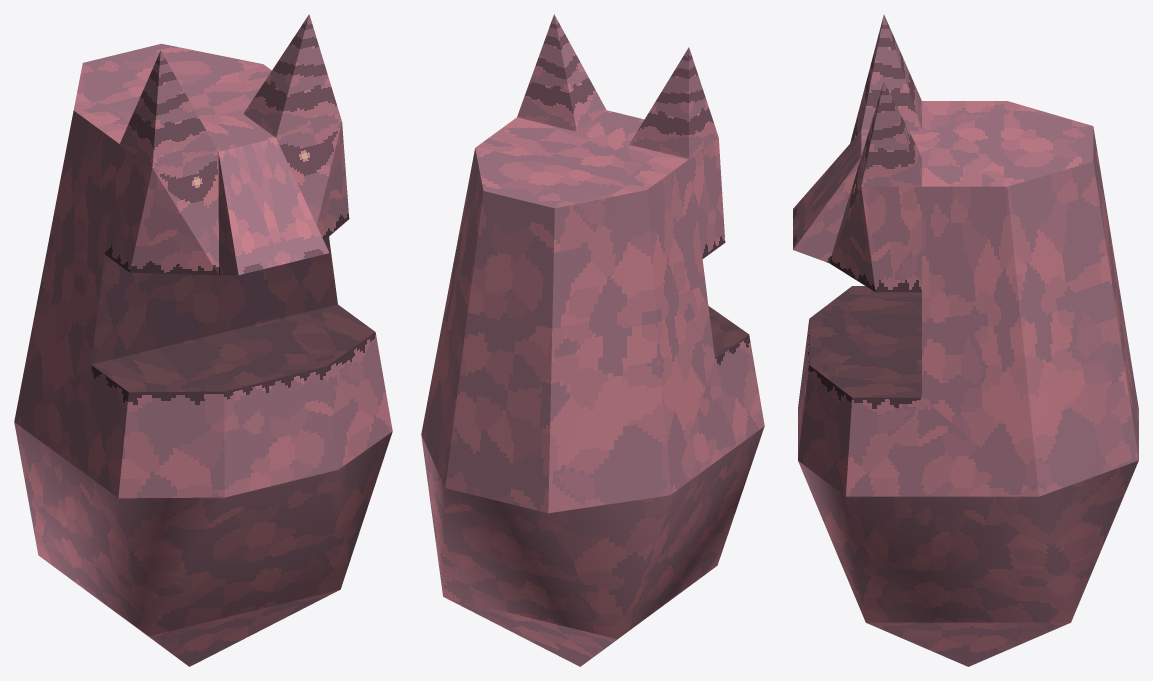
Rendered from 0399_Oni_Island.glb.
3 renders of one model, left to right at view 1: azimuth 30°, elevation 25°; view 2: azimuth 150°, elevation 25°; view 3: azimuth 270°, elevation 25°, orthographic. The views are drawn at different scales.
Visible parts, largest first — view 1: part_0; view 2: part_0; view 3: part_0.
Boxes of the visible parts, x1,y1,x2,y2 form: part_0: (14, 14, 392, 666); part_0: (421, 14, 764, 666); part_0: (793, 14, 1138, 666).
Size of the model in its own units: 68.3 by 159 by 80.45.
Materials: 1 (1 with a texture image).
